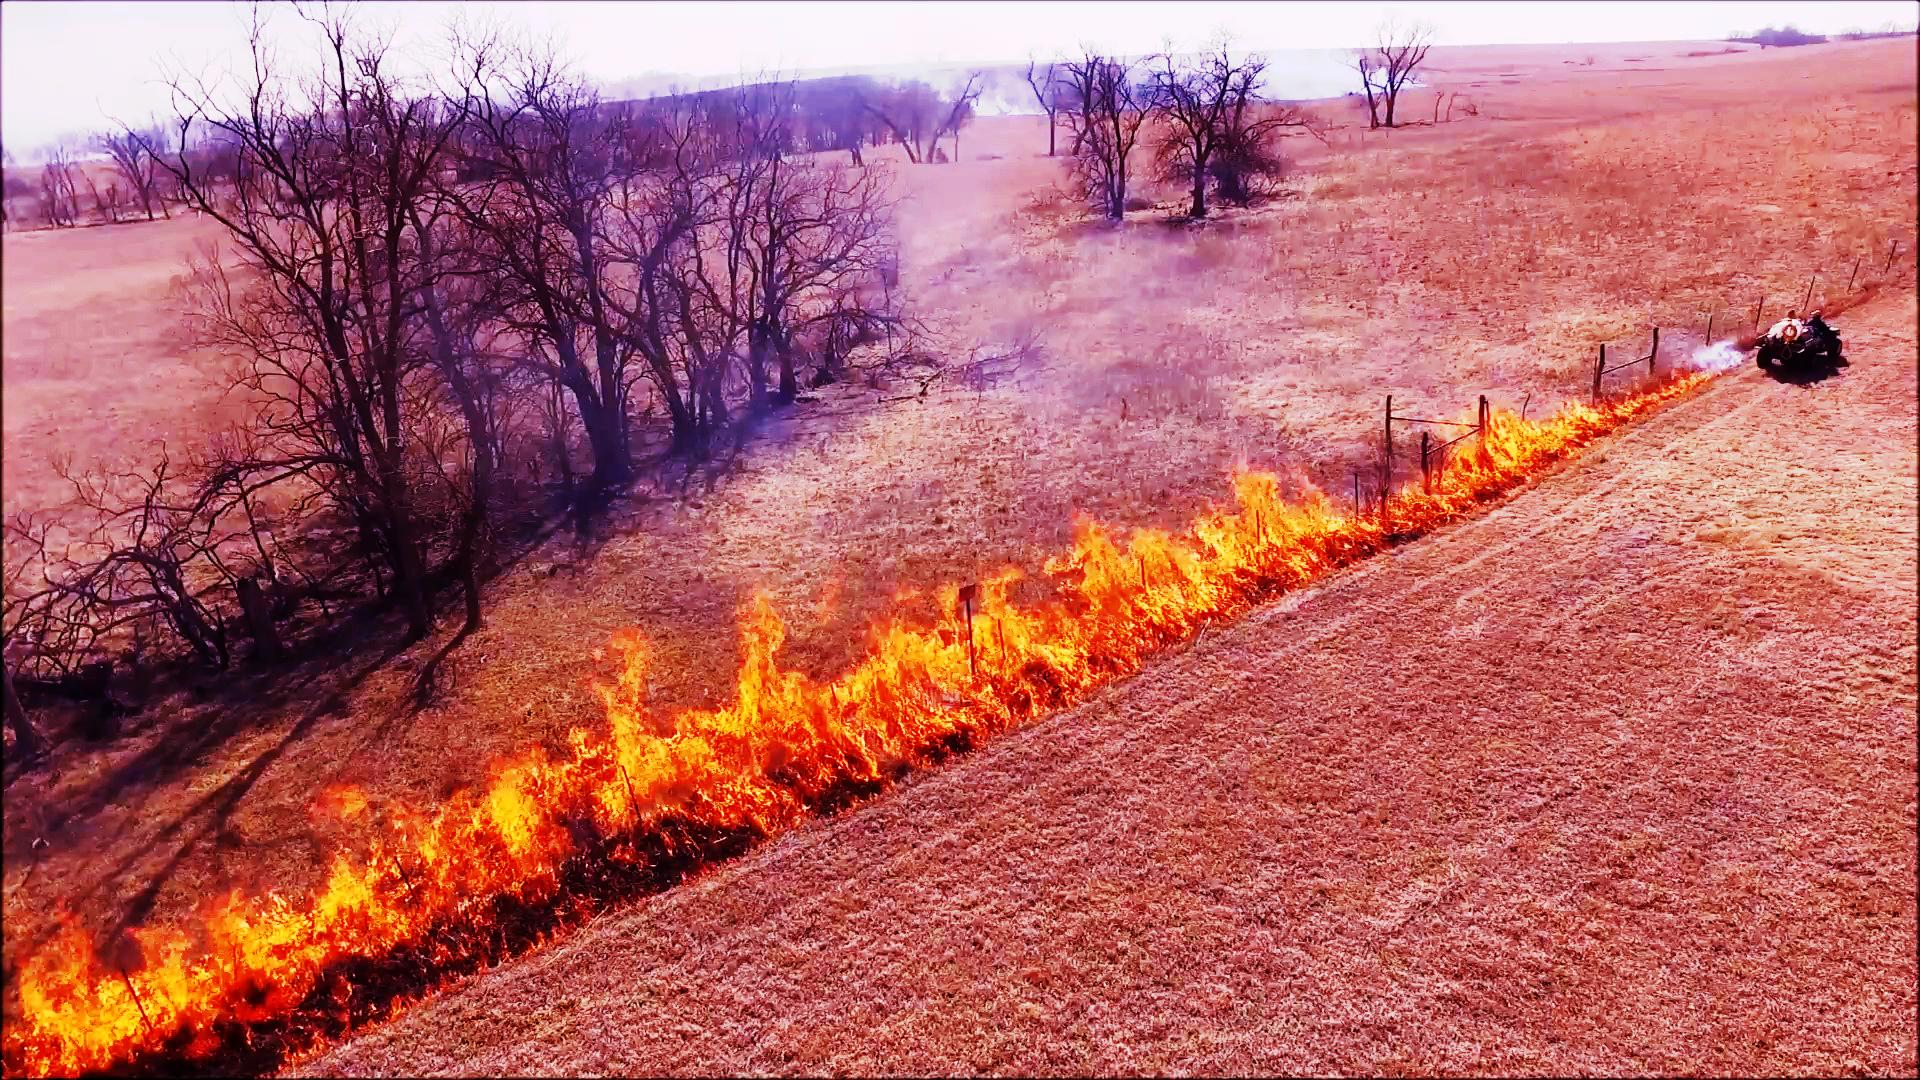fire: (595, 585, 865, 860), (0, 890, 220, 1080), (1030, 516, 1225, 695), (880, 595, 1055, 785), (460, 731, 595, 910), (1211, 465, 1370, 605), (1451, 400, 1610, 500), (295, 851, 419, 971), (1367, 454, 1465, 538)
